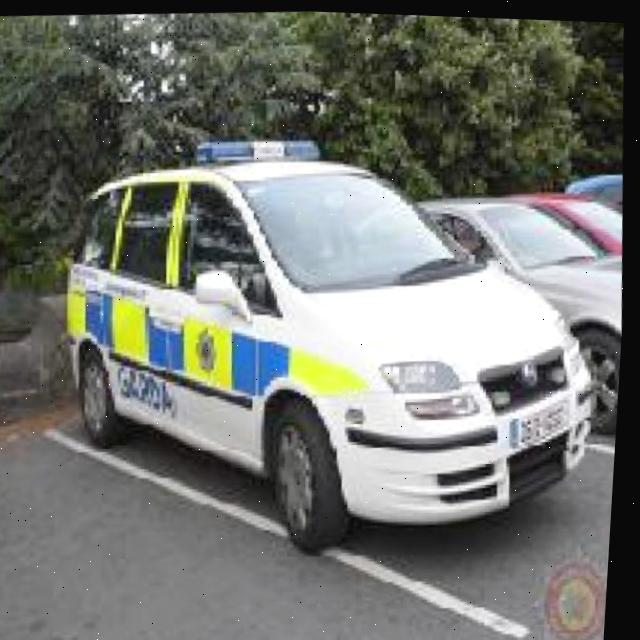emergency: (45, 111, 621, 569)
